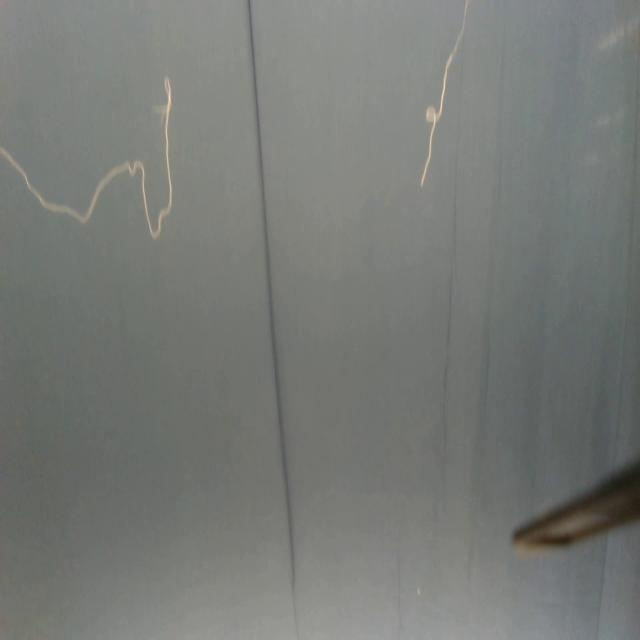crease: (248, 0, 297, 632)
hole: (416, 583, 422, 601)
